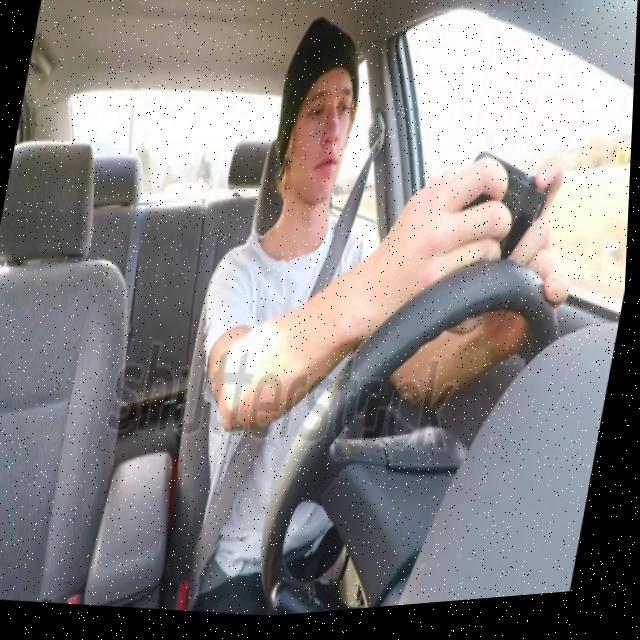PhoneCall: (452, 151, 558, 286)
